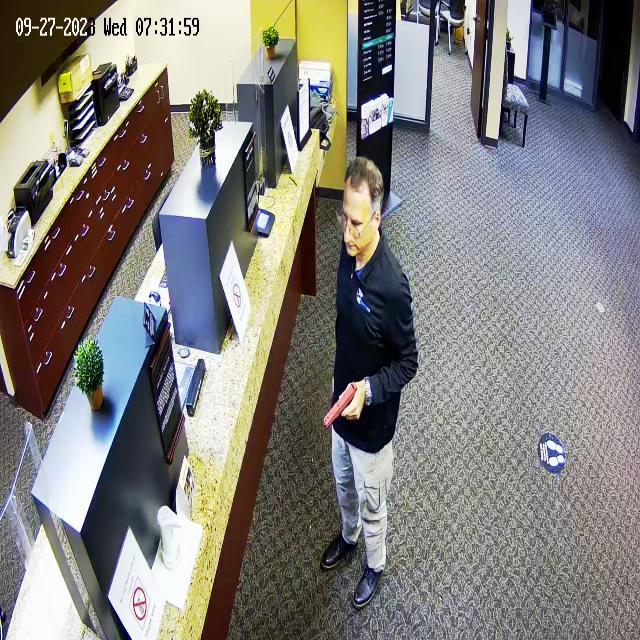Gun: (312, 377, 370, 434)
